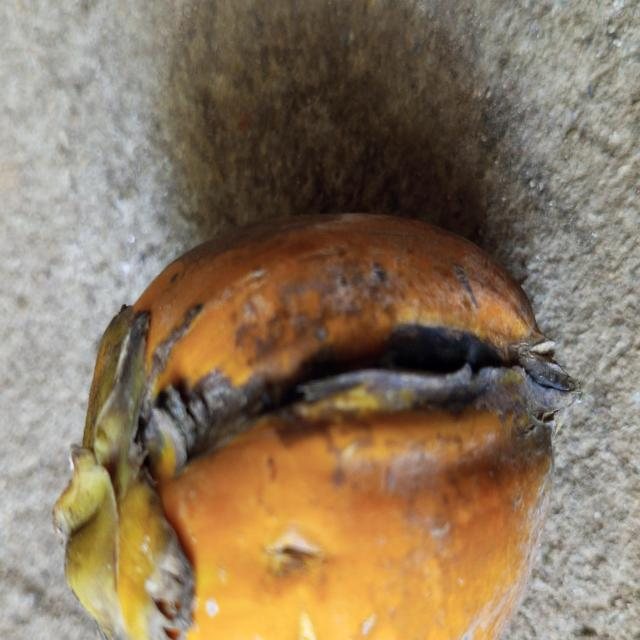damaged: (54, 214, 576, 640)
